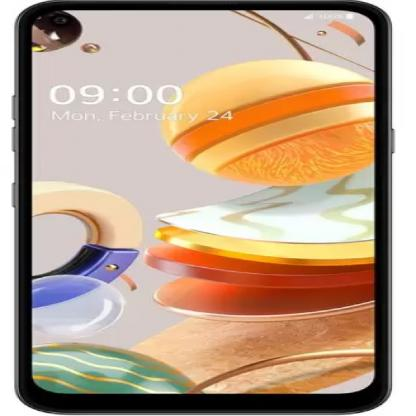SMARTPHONE: (15, 0, 402, 416)
